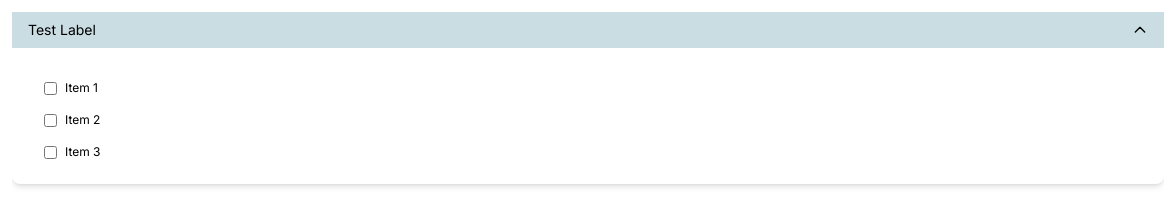
Test case: Dropdown › displays "Label + X More" when multiple items are selected
The width and height of the screenshot is (1176, 205).
What coordinates should you click on to do the following:
click the list item "Item 1"
I would click on:
 (71, 88)
Its box is [44,80,98,95].
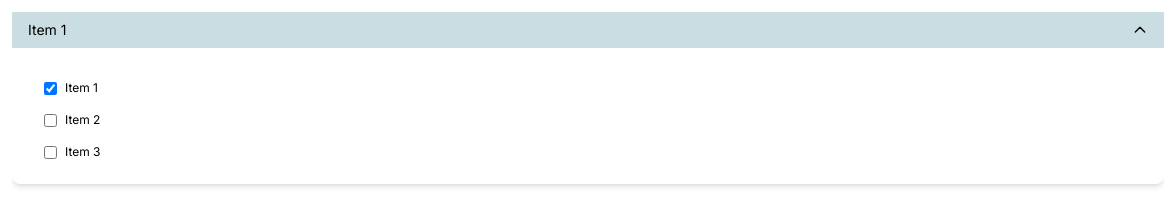
What coordinates should you click on to do the following:
click the list item "Item 2"
I would click on:
 (72, 120)
Its box is [44,112,100,127].
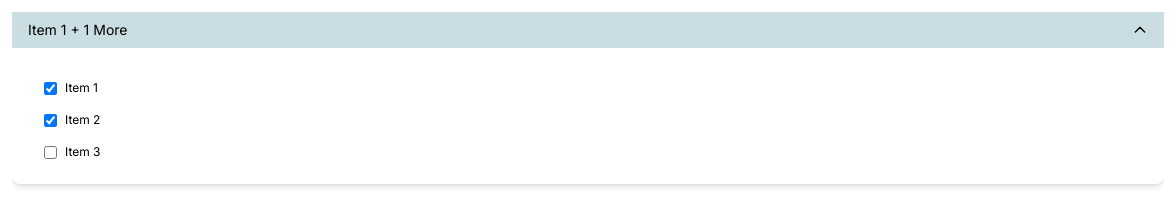
Result: the text "Item 1 + 1 More" is shown at [28,20,128,40]
